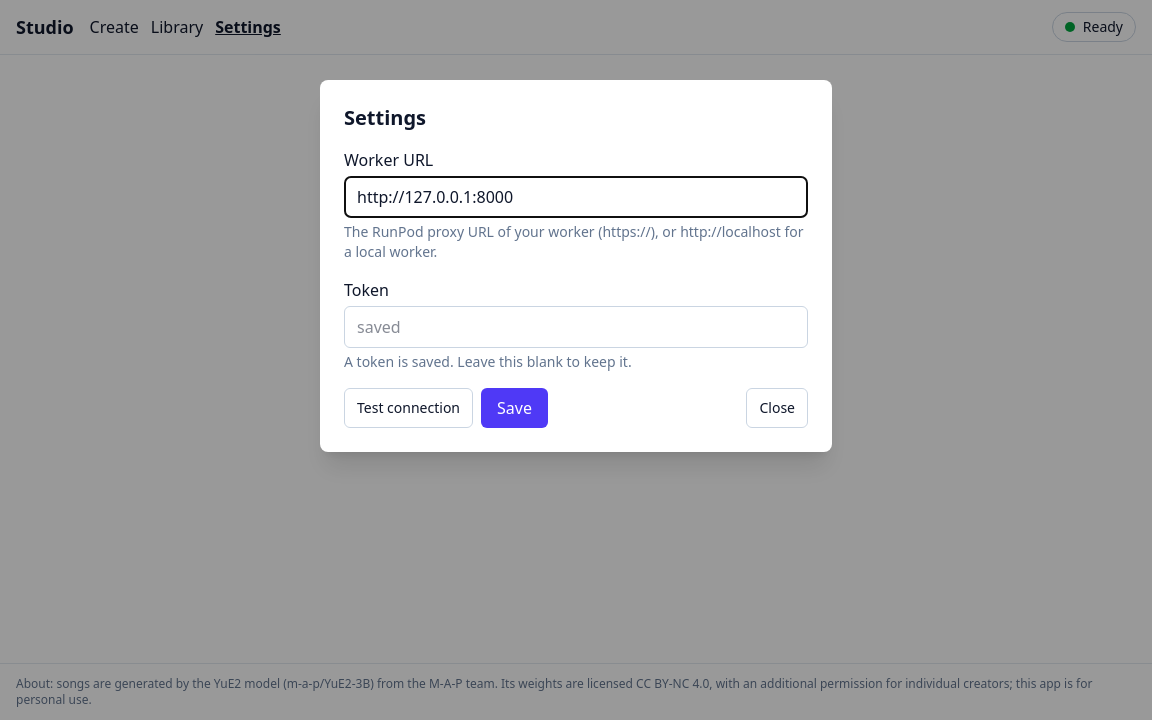
Test: settings dialog (U-5) › Test connection saves, checks, and shows 'rejected the token' (AT-4 wording)
Expected: the field labelled "Worker URL" holds "http://127.0.0.1:8000", [344,176,808,218]
Click the button "Test connection": (408, 408) [344,388,473,428]
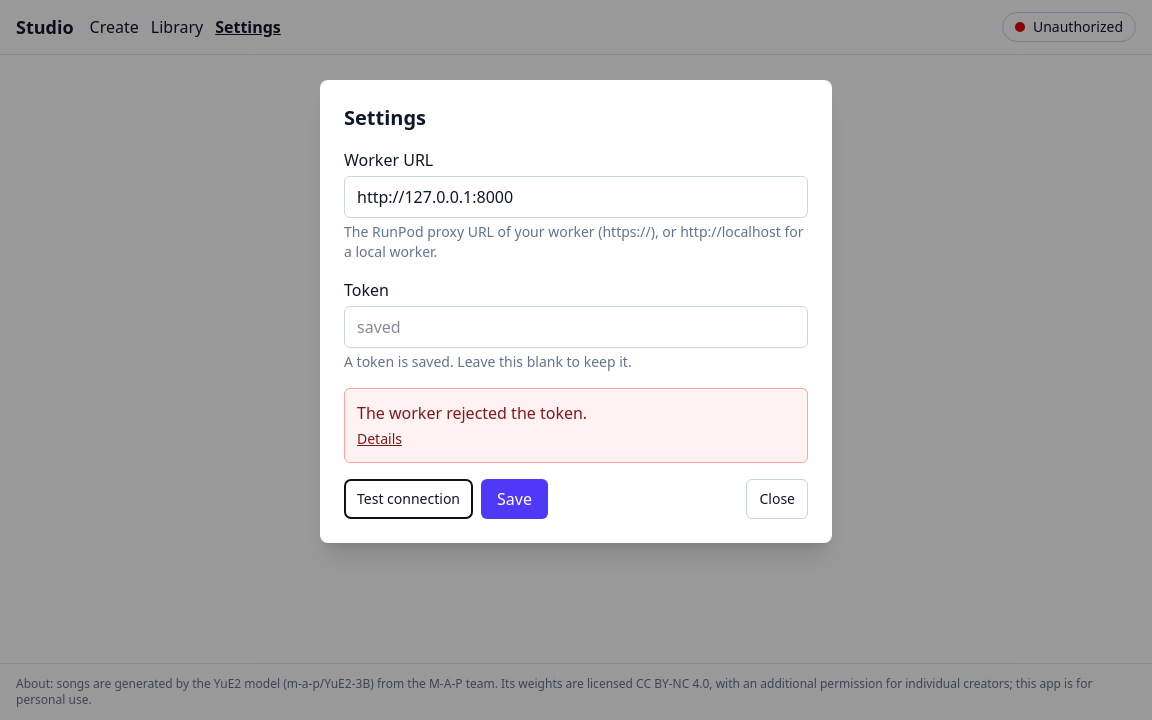
Expected: the text "The worker rejected the token." is shown, [357,402,587,424]
